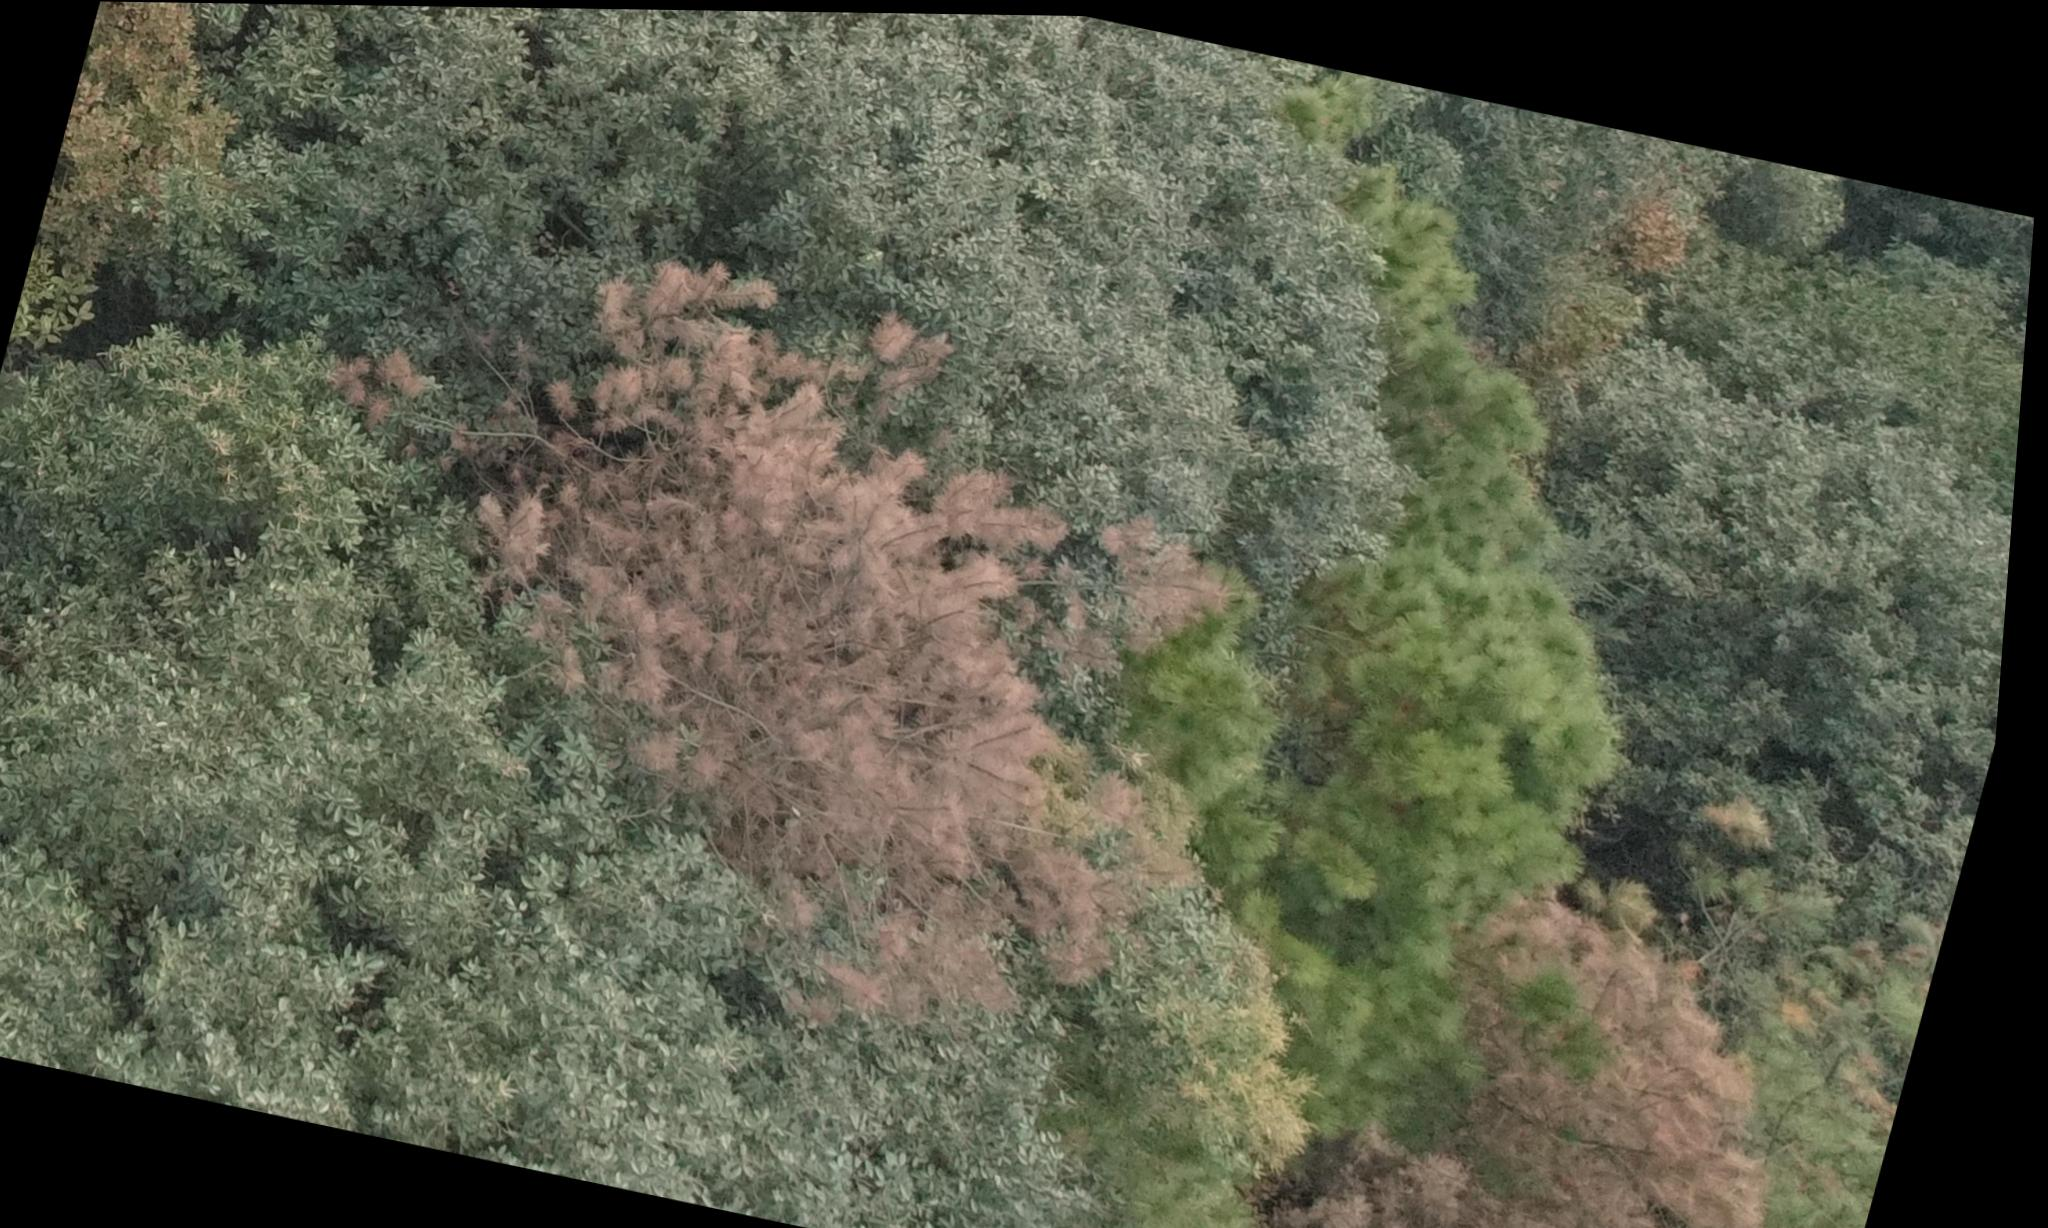heavy: (395, 235, 1264, 1057), (1298, 865, 1858, 1228)
